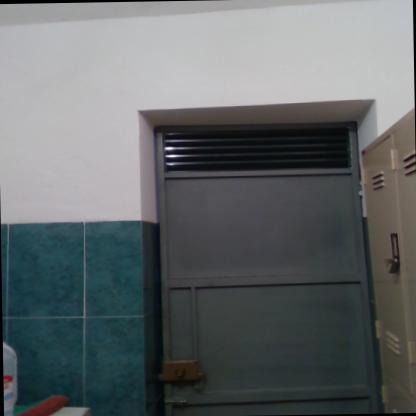closed: (114, 73, 395, 416)
